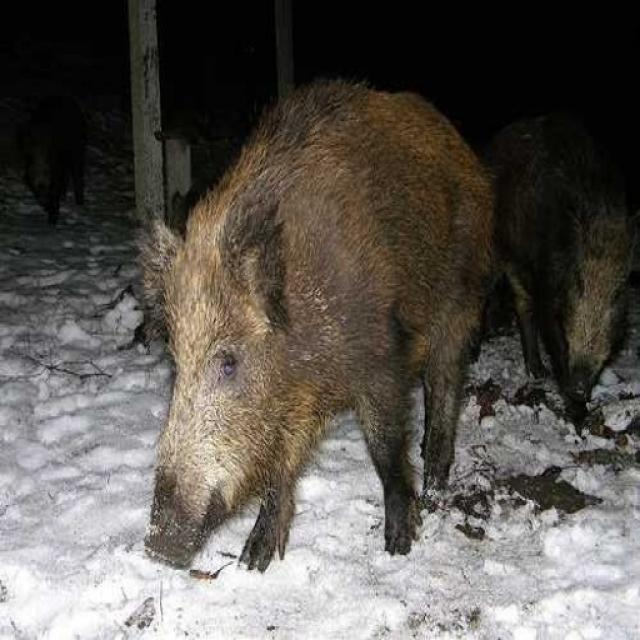pig: (97, 43, 447, 628), (458, 96, 640, 422)
